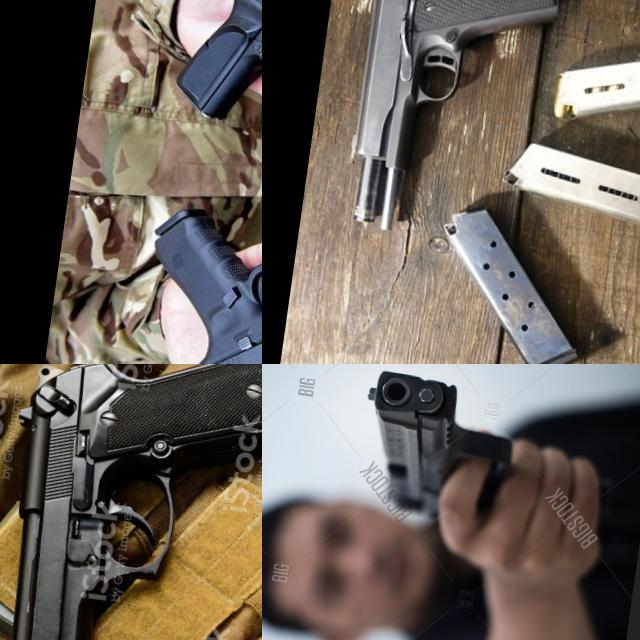handgun: (0, 364, 262, 640), (332, 0, 579, 255), (351, 366, 522, 524), (130, 201, 262, 364)
